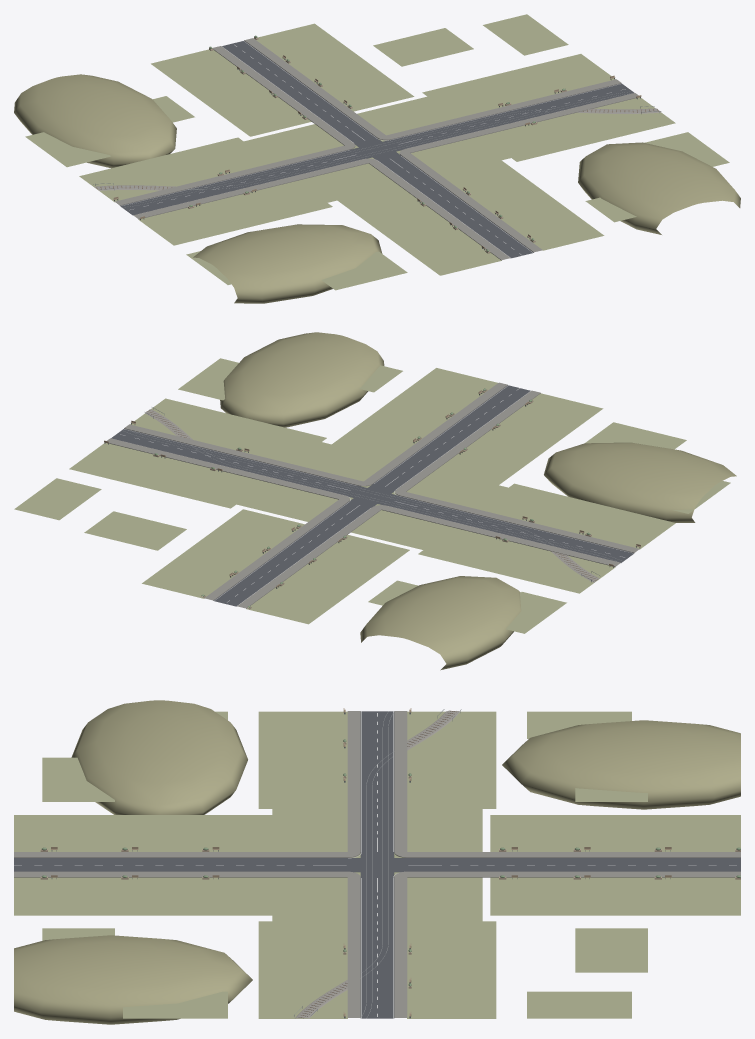
The picture shows the model from 3 angles, top to bottom: view 1: azimuth 30°, elevation 25°; view 2: azimuth 150°, elevation 25°; view 3: azimuth 270°, elevation 25°; orthographic projection. The views are drawn at different scales.
Parts seen in each view (by area): view 1: static; view 2: static; view 3: static.
Boxes of the visible parts, <box> form: static: <box>14,14,740,303</box>; static: <box>14,332,736,670</box>; static: <box>14,700,740,1024</box>.
Size of what is drawn, in the model's own units: 180 by 14.08 by 180.
